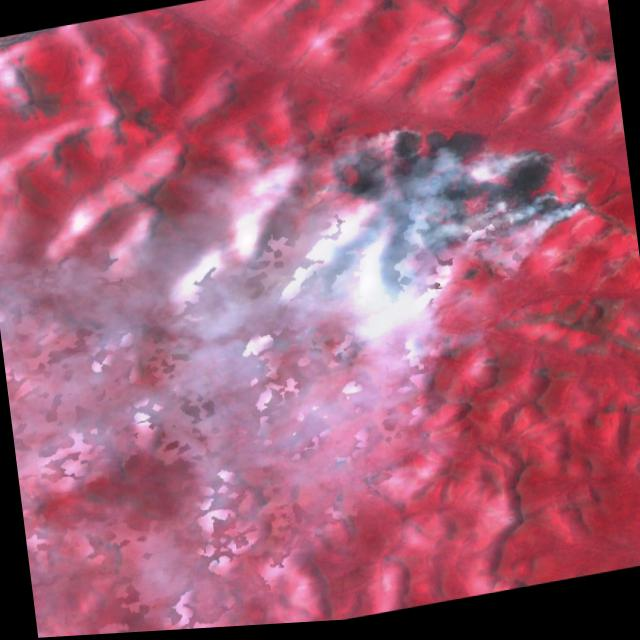fire: (273, 96, 594, 334)
